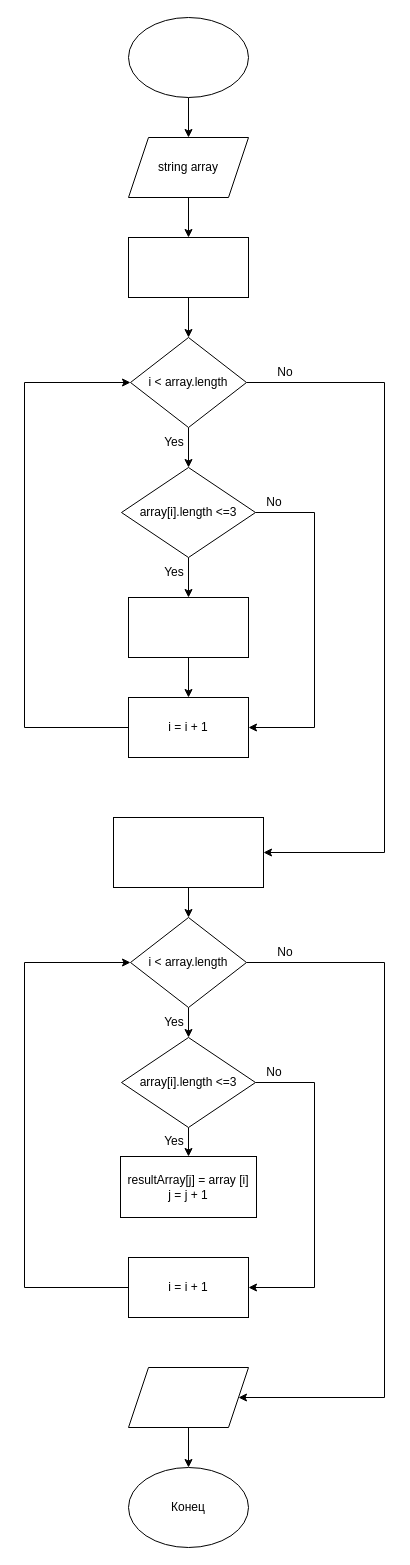
The diagram is 410 pixels wide and 1565 high, and some of its shapes have lost their labels. The box of each missing label's shape, as (x1, y1, x2, y2) in pixels:
count = count + 1: (128, 596, 248, 658)
Create resultArray [count] j = 0 i = 0: (112, 816, 264, 888)
i = 0 count = 0: (128, 236, 248, 298)
Print resultArray: (128, 1366, 248, 1428)
Начало: (128, 16, 248, 98)
